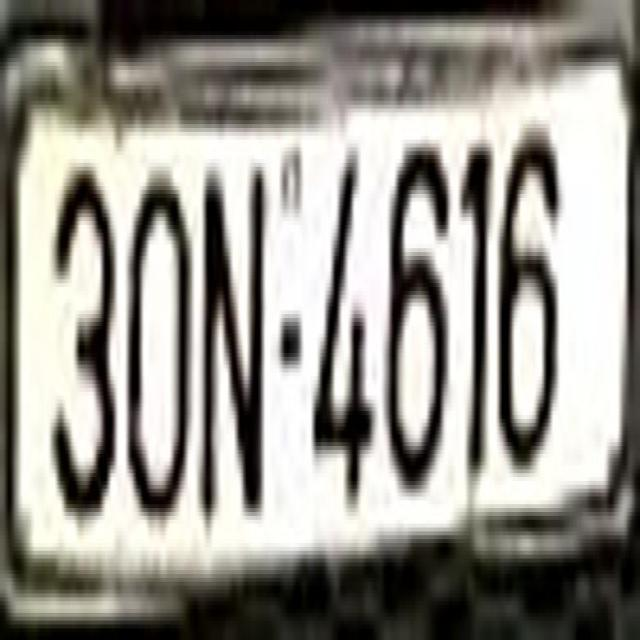0: (126, 140, 187, 520)
1: (460, 132, 490, 492)
3: (52, 156, 112, 532)
4: (310, 136, 372, 500)
6: (383, 124, 450, 489), (497, 116, 561, 492)
N: (198, 140, 271, 524)
